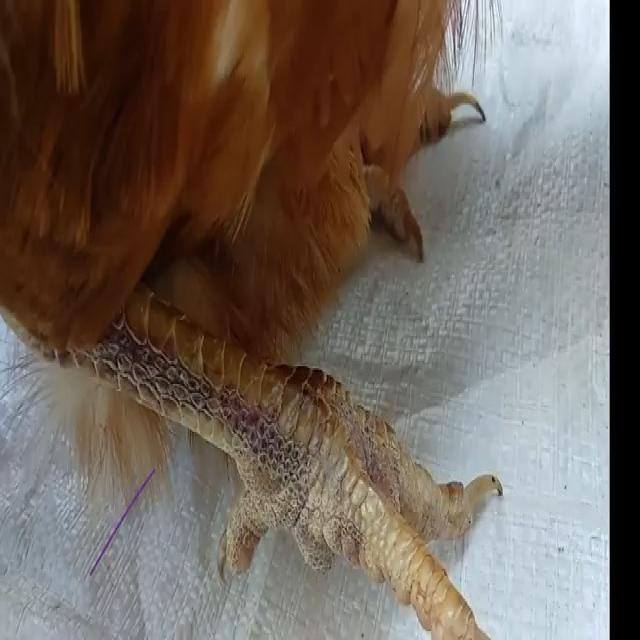bird flu: (0, 0, 540, 620)
